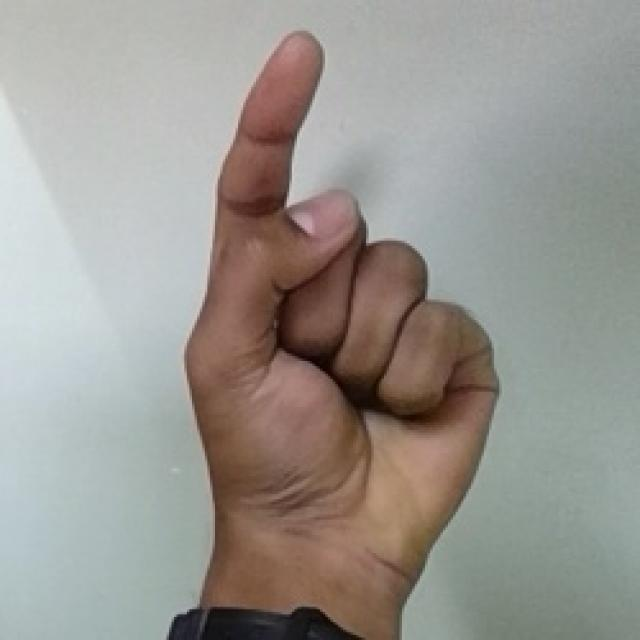Numeric-1: (183, 30, 499, 608)
